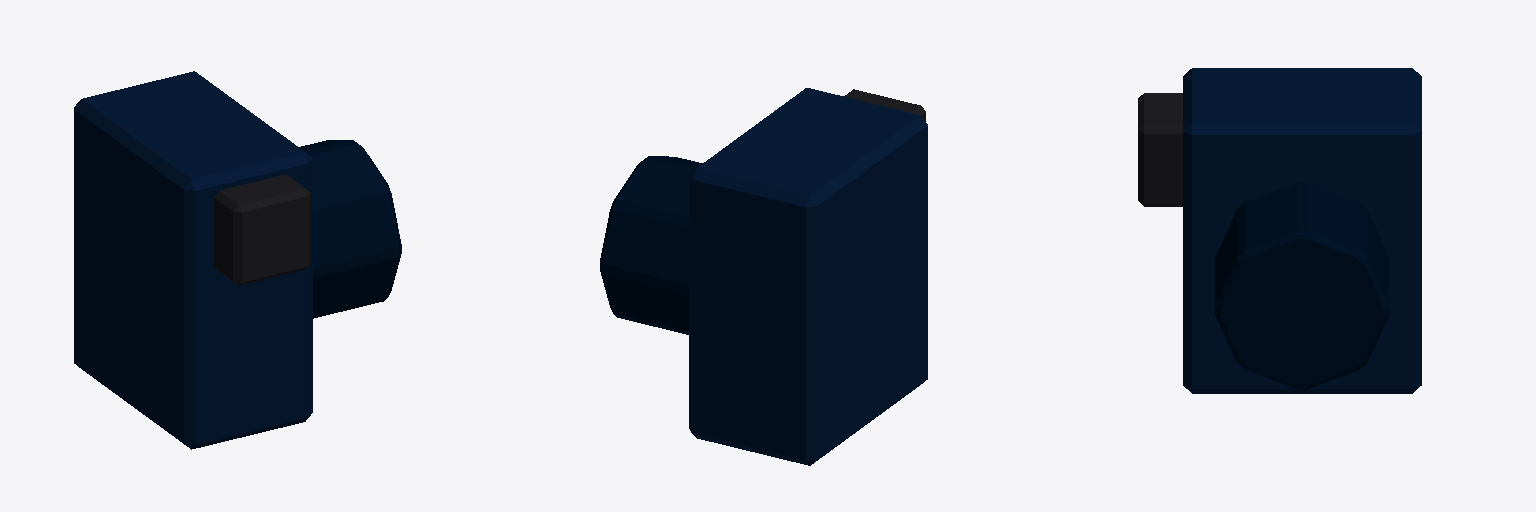
Rendered from camera.obj.
3 views of the same model, side by side, from view 1: azimuth 30°, elevation 25°; view 2: azimuth 150°, elevation 25°; view 3: azimuth 270°, elevation 25° (orthographic).
Visible parts, largest first — view 1: obj1, obj2, obj3; view 2: obj1, obj2, obj3; view 3: obj1, obj2, obj3.
Boxes of the visible parts, x1=… form: obj1: x1=74, y1=71, x2=312, y2=449; obj2: x1=299, y1=140, x2=401, y2=318; obj3: x1=214, y1=174, x2=310, y2=285; obj1: x1=689, y1=88, x2=927, y2=465; obj2: x1=600, y1=156, x2=702, y2=334; obj3: x1=844, y1=89, x2=925, y2=120; obj1: x1=1183, y1=68, x2=1421, y2=393; obj2: x1=1215, y1=183, x2=1388, y2=388; obj3: x1=1138, y1=93, x2=1182, y2=206.
Size of the model in its own units: 0.45 by 0.5 by 0.475.